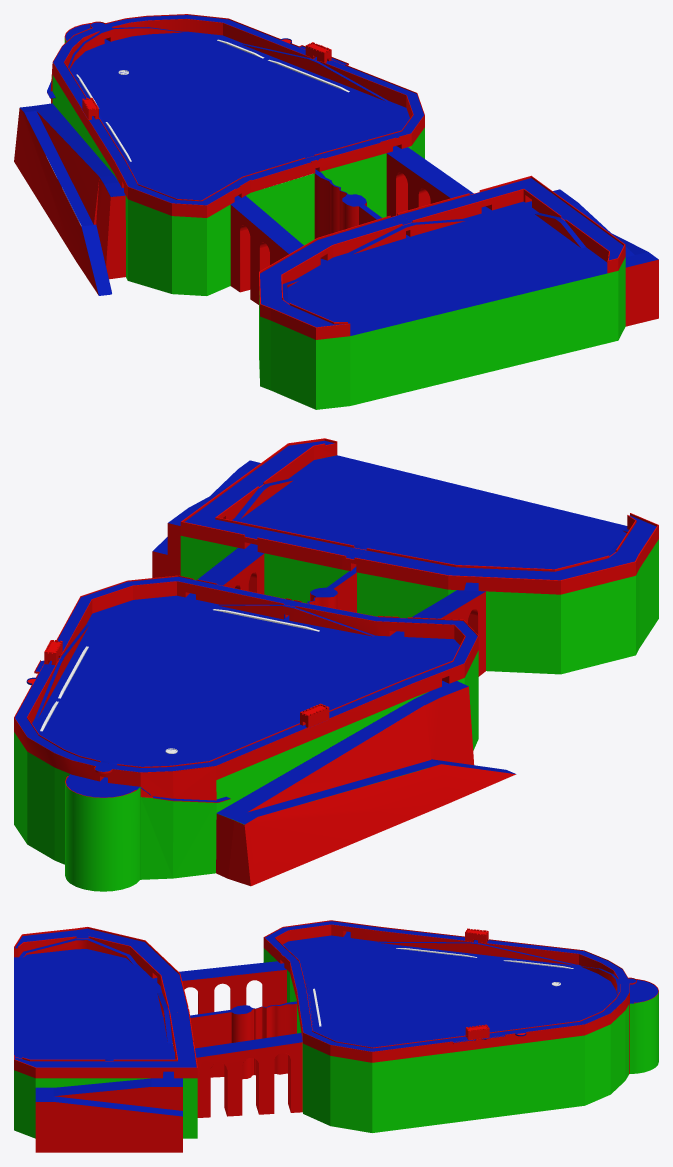
The model's file is Ville_Complete.FBX.
3 views of the same model, one above another, from view 1: azimuth 30°, elevation 25°; view 2: azimuth 150°, elevation 25°; view 3: azimuth 270°, elevation 25° (orthographic). The views are drawn at different scales.
Parts seen in each view (by area): view 1: Object009, Model_Mesh27_Group27, Model_Mesh28_Group28, Model_Mesh30_Group30, Model_Muraille_Sud_Group33, Model_Mesh8_Group8, Mesh1_Group1_Model, Model_Mesh2_Group2, Model_Mesh25_Group25, Group1_Model_Pente, Model_Mesh16_Group16, Model_Mesh19_Group19 (+1 smaller); view 2: Object009, Model_Mesh8_Group8, Model_Mesh27_Group27, Model_Mesh30_Group30, Model_Muraille_Sud_Group33, Model_Mesh28_Group28, Model_Mesh9_Group9, Model_Mesh24_Group24, Model_Mesh15_Group15, Mesh1_Group1_Model, Group1_Model_Pente, Model_Mesh25_Group25 (+3 smaller); view 3: Object009, Model_Mesh28_Group28, Model_Mesh30_Group30, Group1_Model_Pente, Model_Muraille_Sud_Group33, Model_Mesh2_Group2, Model_Mesh25_Group25, Model_Mesh27_Group27, Mesh1_Group1_Model, Model_Mesh24_Group24, Model_Mesh21_Group21, Model_Mesh18_Group18.
Boxes of the visible parts, left/top/right/bottom form: Object009: left=20, top=24, right=658, bottom=335; Model_Mesh27_Group27: left=259, top=257, right=625, bottom=409; Model_Mesh28_Group28: left=52, top=75, right=424, bottom=295; Model_Mesh30_Group30: left=52, top=14, right=424, bottom=217; Model_Muraille_Sud_Group33: left=259, top=175, right=625, bottom=339; Model_Mesh8_Group8: left=14, top=108, right=125, bottom=295; Mesh1_Group1_Model: left=230, top=201, right=302, bottom=304; Model_Mesh2_Group2: left=386, top=153, right=450, bottom=216; Model_Mesh25_Group25: left=314, top=173, right=376, bottom=238; Group1_Model_Pente: left=625, top=259, right=658, bottom=326; Model_Mesh16_Group16: left=241, top=43, right=388, bottom=101; Model_Mesh19_Group19: left=349, top=219, right=465, bottom=254; Object009: left=32, top=455, right=627, bottom=824; Model_Mesh8_Group8: left=216, top=686, right=516, bottom=886; Model_Mesh27_Group27: left=180, top=536, right=658, bottom=674; Model_Mesh30_Group30: left=14, top=575, right=478, bottom=786; Model_Muraille_Sud_Group33: left=180, top=438, right=658, bottom=594; Model_Mesh28_Group28: left=14, top=650, right=478, bottom=879; Model_Mesh9_Group9: left=140, top=766, right=230, bottom=879; Model_Mesh24_Group24: left=65, top=776, right=140, bottom=891; Model_Mesh15_Group15: left=218, top=604, right=375, bottom=636; Mesh1_Group1_Model: left=441, top=591, right=485, bottom=676; Group1_Model_Pente: left=152, top=523, right=180, bottom=577; Model_Mesh25_Group25: left=309, top=572, right=356, bottom=612; Object009: left=14, top=931, right=658, bottom=1116; Model_Mesh28_Group28: left=263, top=948, right=629, bottom=1132; Model_Mesh30_Group30: left=263, top=920, right=636, bottom=1062; Group1_Model_Pente: left=35, top=1087, right=182, bottom=1152; Model_Muraille_Sud_Group33: left=14, top=927, right=197, bottom=1078; Model_Mesh2_Group2: left=196, top=1042, right=302, bottom=1117; Model_Mesh25_Group25: left=190, top=1004, right=296, bottom=1079; Model_Mesh27_Group27: left=14, top=1070, right=197, bottom=1138; Mesh1_Group1_Model: left=182, top=962, right=286, bottom=1014; Model_Mesh24_Group24: left=629, top=979, right=658, bottom=1073; Model_Mesh21_Group21: left=378, top=941, right=575, bottom=965; Model_Mesh18_Group18: left=19, top=938, right=137, bottom=964.
Size of the model in its own units: 35649 by 8945 by 58177.
